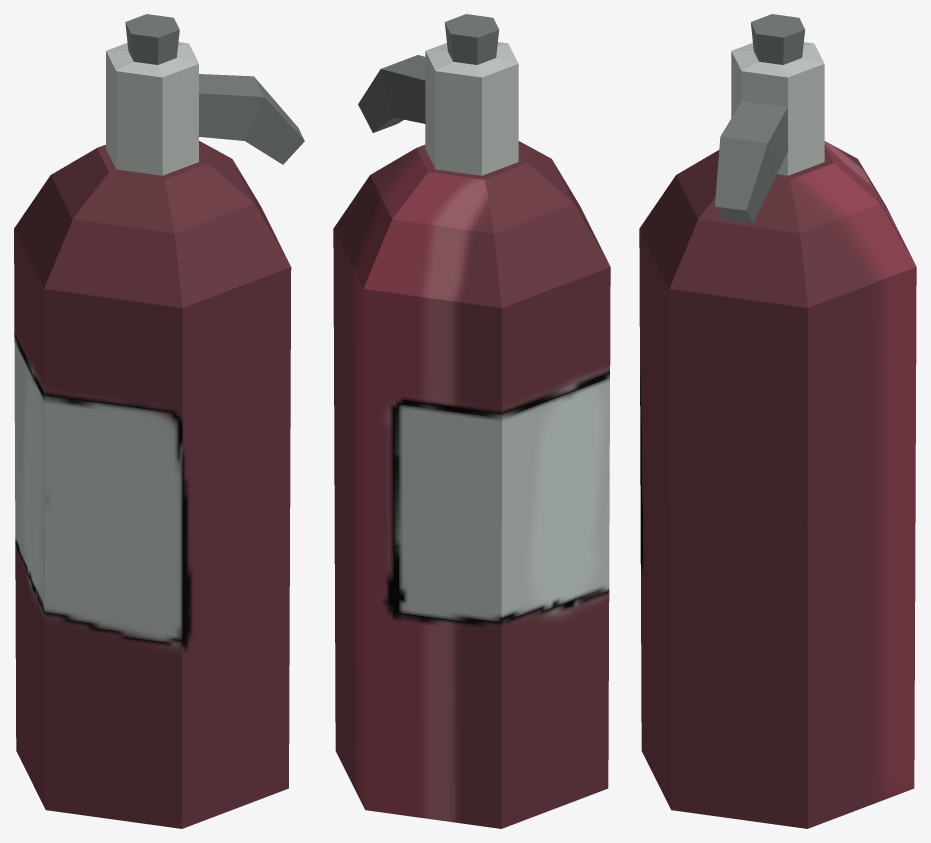
The model's file is extinguisher.obj.
3 views of the same model, side by side, from view 1: azimuth 30°, elevation 25°; view 2: azimuth 150°, elevation 25°; view 3: azimuth 270°, elevation 25° (orthographic).
Visible parts, largest first — view 1: Interior.001_Interior.007; view 2: Interior.001_Interior.007; view 3: Interior.001_Interior.007.
Part boxes in pixels (box(x1,y1,x2,y2)): Interior.001_Interior.007: box(14, 14, 304, 828); Interior.001_Interior.007: box(333, 14, 610, 828); Interior.001_Interior.007: box(639, 14, 916, 828).
Size of the model in its own units: 0.2226 by 0.6244 by 0.2109.
1 material, 1 textured.
